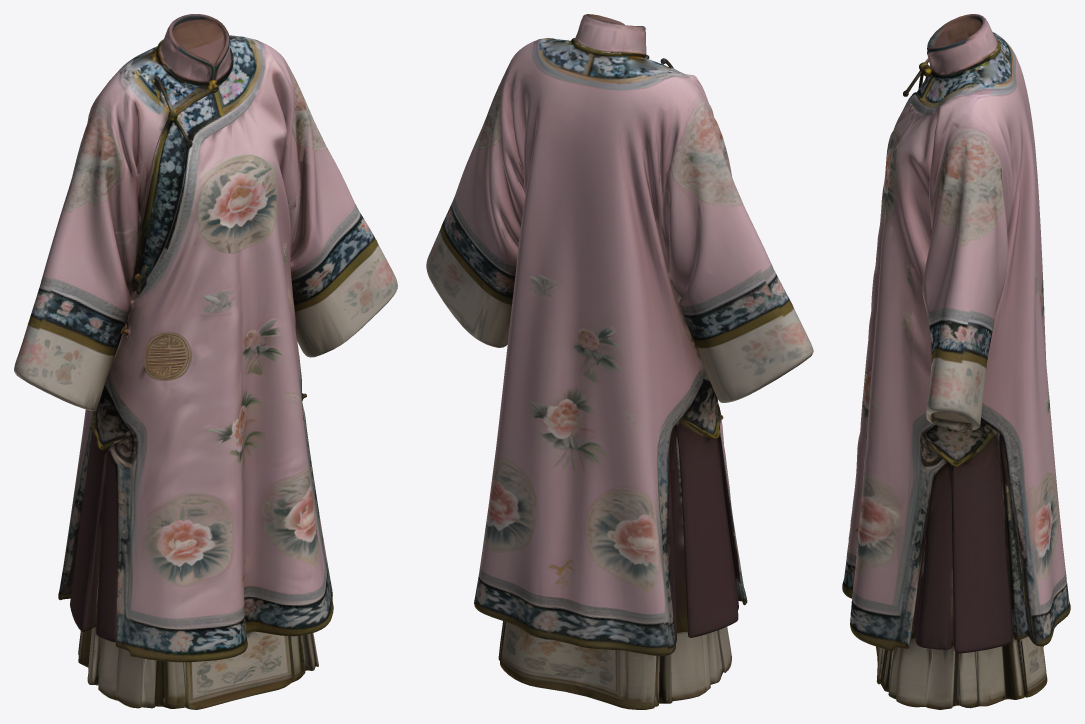
The model's file is ouhe.glb.
3 renders of one model, left to right at view 1: azimuth 30°, elevation 25°; view 2: azimuth 150°, elevation 25°; view 3: azimuth 270°, elevation 25°, orthographic.
Visible parts, largest first — view 1: node_0; view 2: node_0; view 3: node_0.
Part boxes in pixels (box(x1,y1,x2,y2)): node_0: box(14, 14, 397, 709); node_0: box(426, 14, 813, 709); node_0: box(842, 14, 1070, 709).
Size of the model in its own units: 0.7009 by 1.14 by 0.3689.
Materials: 1 (1 with a texture image).
